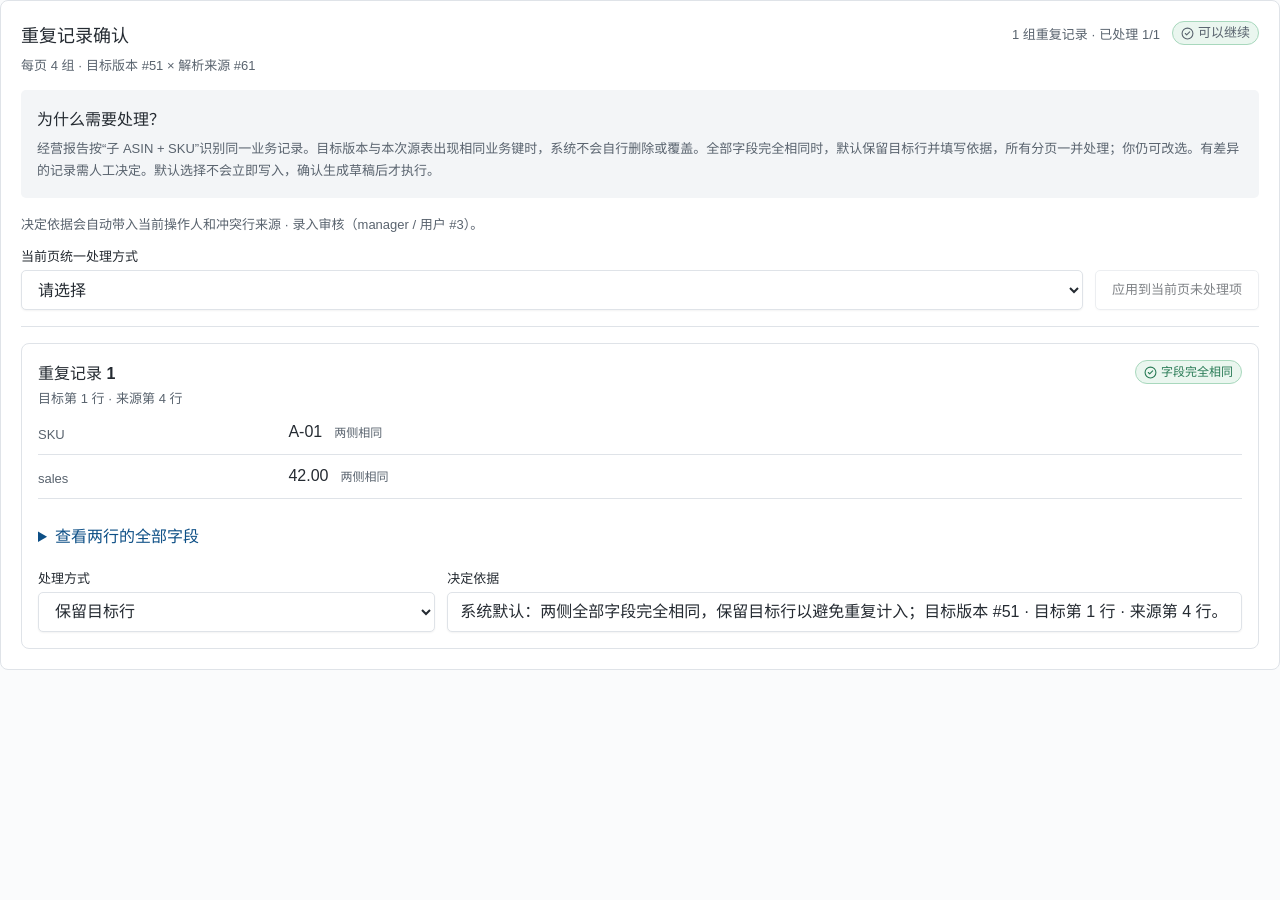
it: MergeDecisionMatrix › prefills each selected conflict decision with operator and row provenance
The width and height of the screenshot is (1280, 900).
Expected: the text "子 ASIN + SKU" is shown, [37,141,316,156]
Expected: the text "字段完全相同" is shown, [1161,364,1233,380]
Select "保留来源行" in the dropdown named "重复记录 1 处理方式": (237, 612) [38,592,435,632]
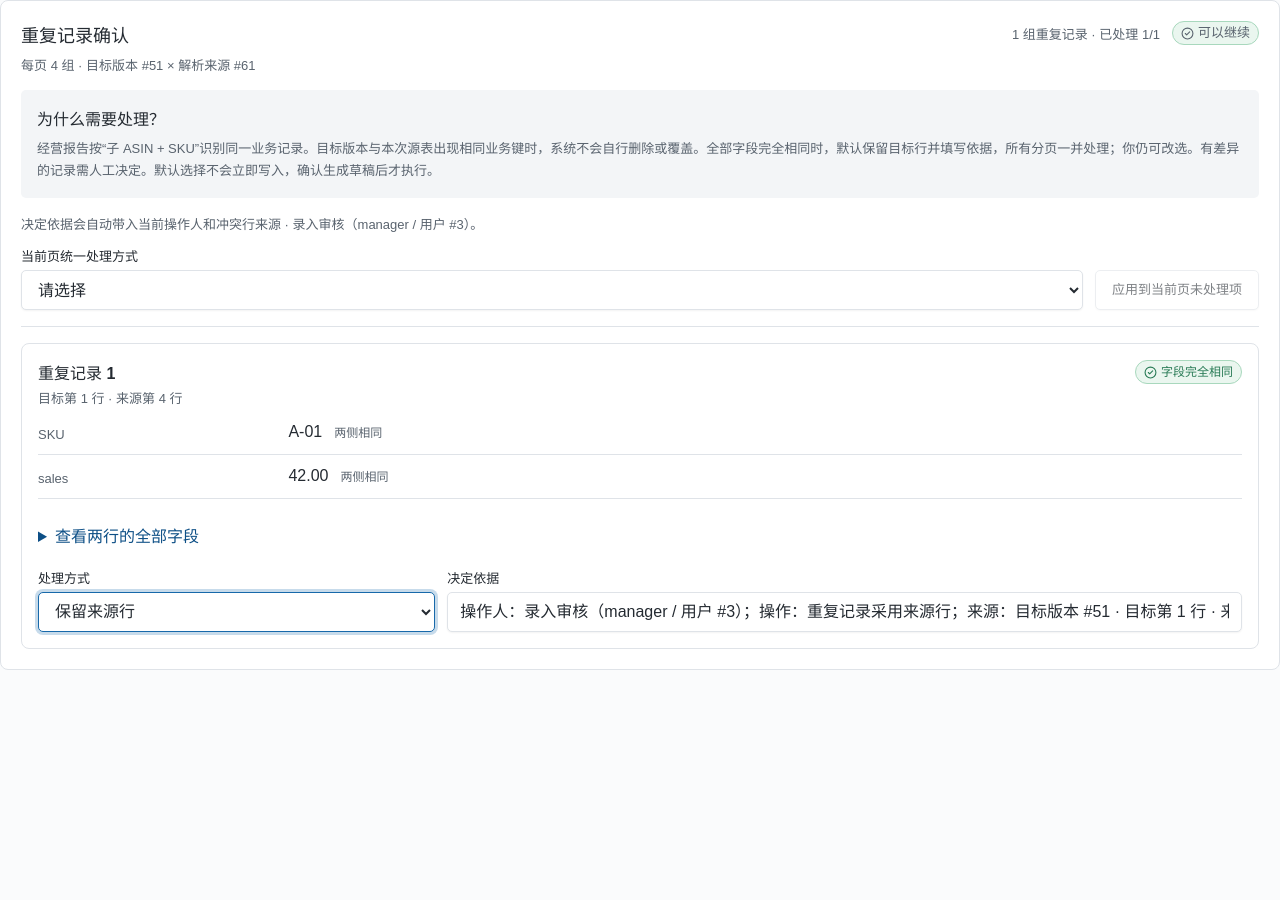
Now the field named "重复记录 1 决定依据" holds "操作人：录入审核（manager / 用户 #3）；操作：重复记录采用来源行；来源：目标版本 #51 · 目标第 1 行 · 来源第 4 行。", box [447,592,1242,632]
